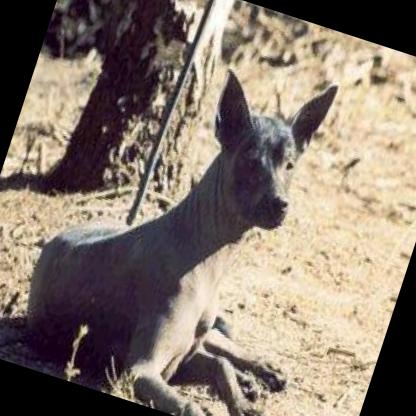Mexican_hairless: (1, 1, 386, 416)
